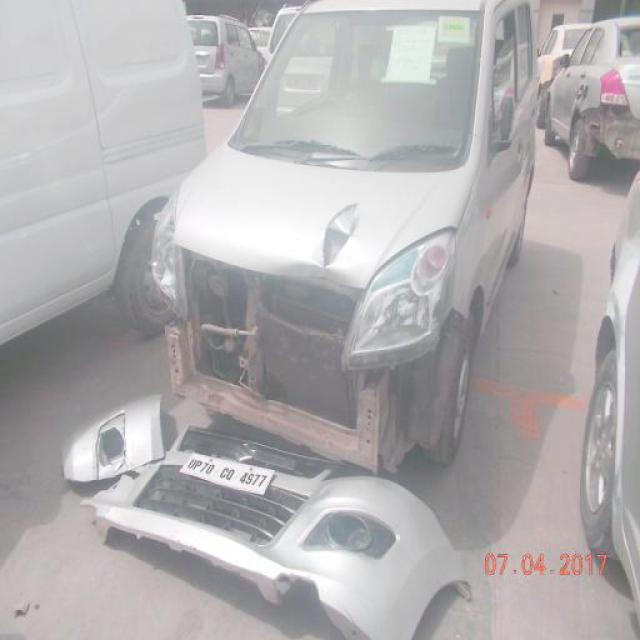car damage: (156, 237, 456, 480), (313, 197, 367, 274)
